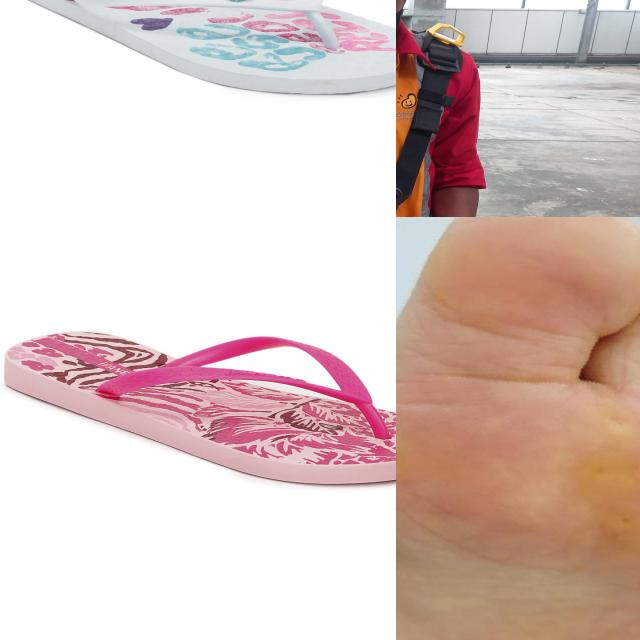Barefoots: (396, 217, 640, 640)
Harness: (396, 27, 467, 217)
Sandals: (1, 328, 396, 487), (0, 0, 396, 97)
